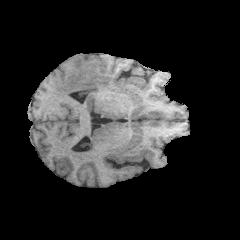glioma: (64, 62, 127, 93)
